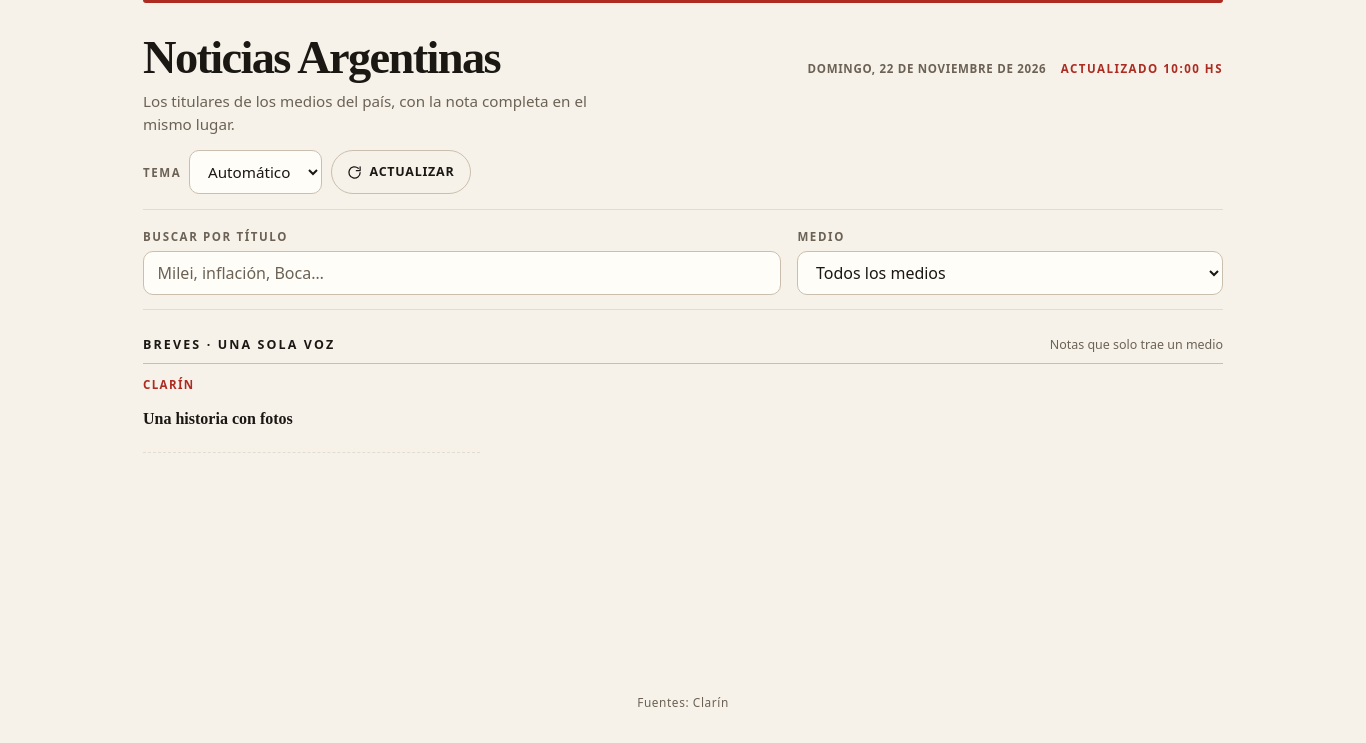
it: App media integration › offers a YouTube video as a link and never renders an iframe
The width and height of the screenshot is (1366, 743).
What coordinates should you click on to do the following:
click the button "Una historia con fotos"
I would click on:
 (218, 419)
Its box is [143,397,480,441].
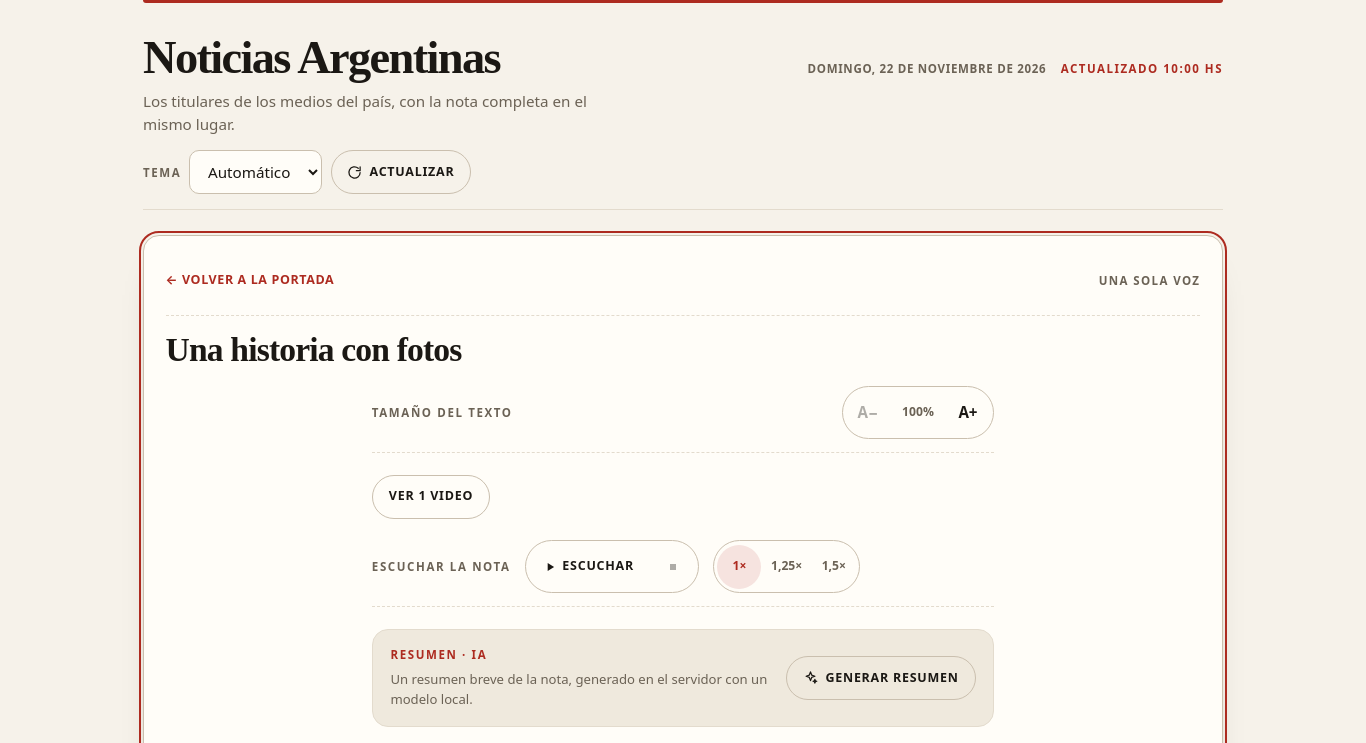
What coordinates should you click on to do the following:
click the button "Ver 1 video"
I would click on:
 (431, 497)
Its box is [372,475,490,519].
(page scrolled)
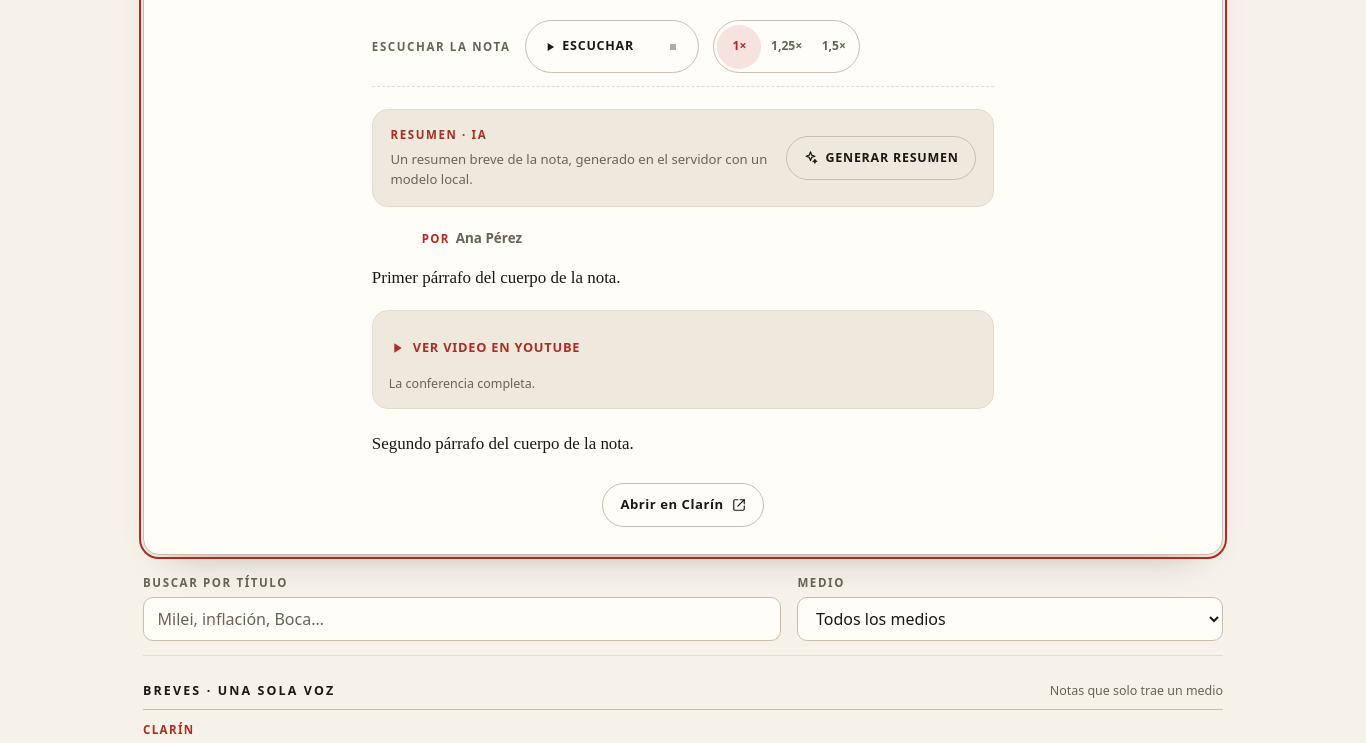
Result: the text "La conferencia completa." is shown at [389,375,535,392]
